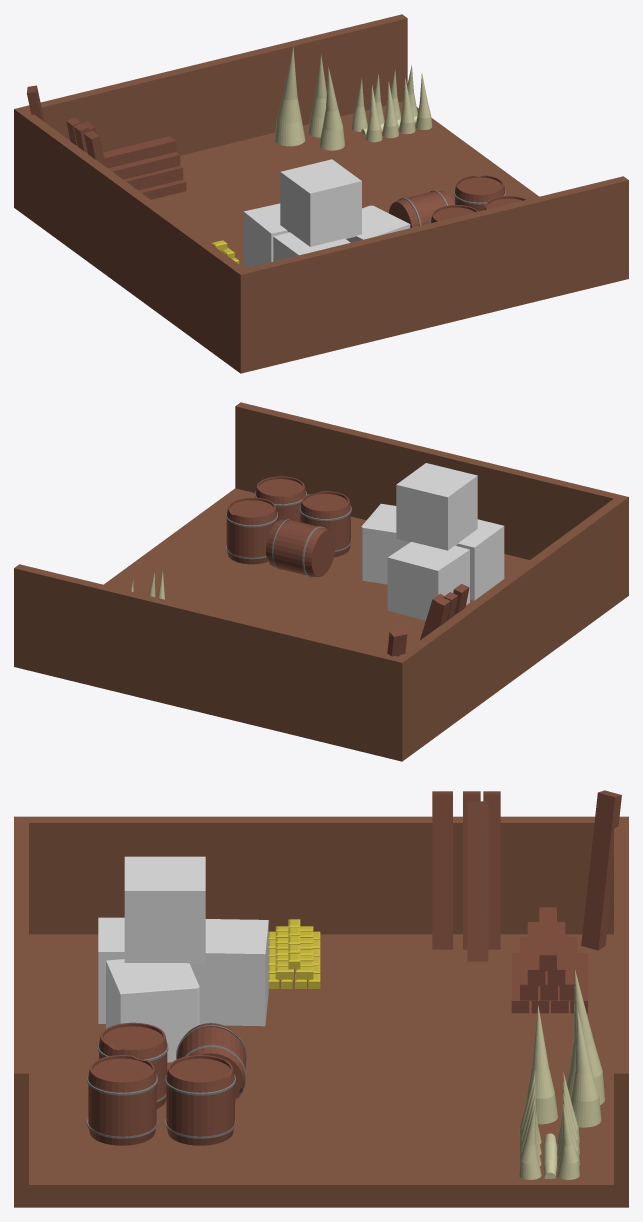
The model's file is Concept Model Storage.fbx.
3 views of the same model, one above another, from view 1: azimuth 30°, elevation 25°; view 2: azimuth 150°, elevation 25°; view 3: azimuth 270°, elevation 25° (orthographic). The views are drawn at different scales.
Visible parts, largest first — view 1: Cube; view 2: Cube; view 3: Cube.
Boxes of the visible parts, x1=… form: Cube: x1=14, y1=14, x2=628, y2=373; Cube: x1=14, y1=402, x2=628, y2=761; Cube: x1=14, y1=790, x2=628, y2=1207.
Size of the model in its own units: 1502 by 455 by 1519.
